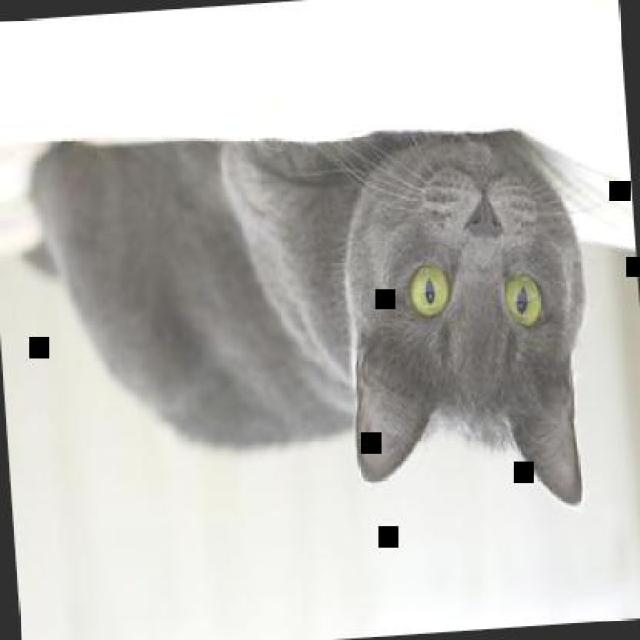cat: (26, 104, 602, 544)
